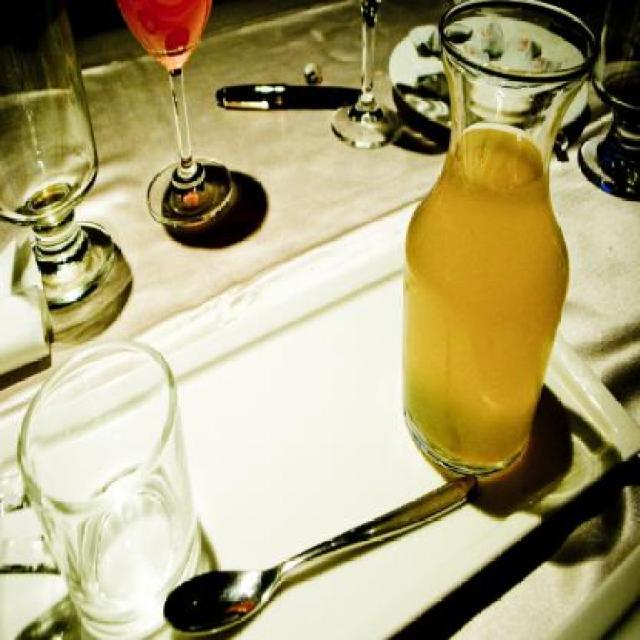Juice: (410, 53, 575, 490), (116, 0, 212, 69)
